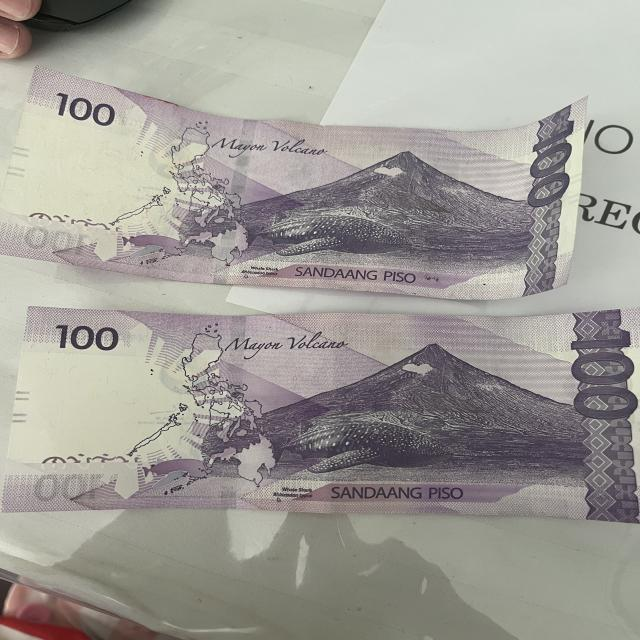100_whale: (241, 411, 453, 484), (227, 200, 408, 272)
100_whale_watermark: (134, 449, 228, 497), (114, 225, 205, 268)
